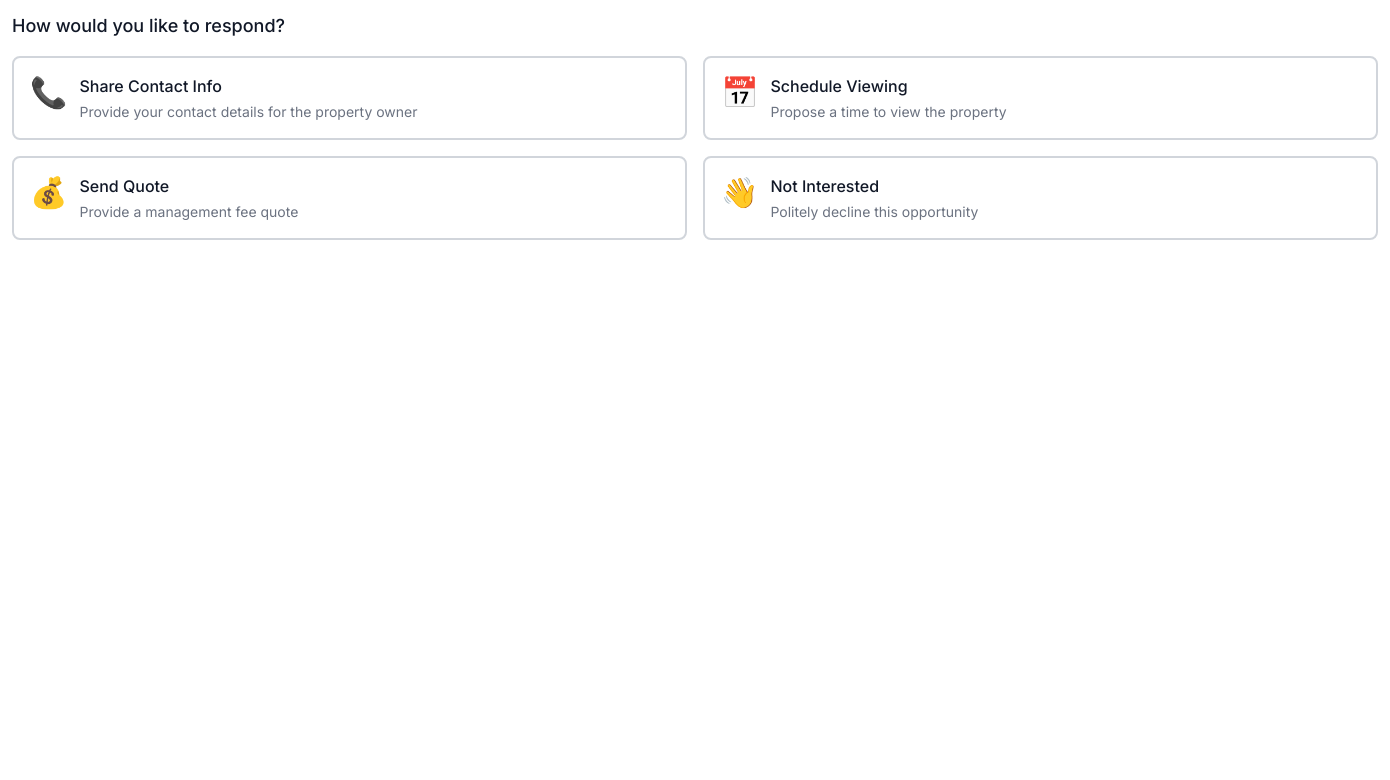
Test case: Lead Response System › ResponseForm › should show contact info form when selected
Click the button "Share Contact Info" at (49, 92), box x1=12 y1=56 x2=687 y2=140
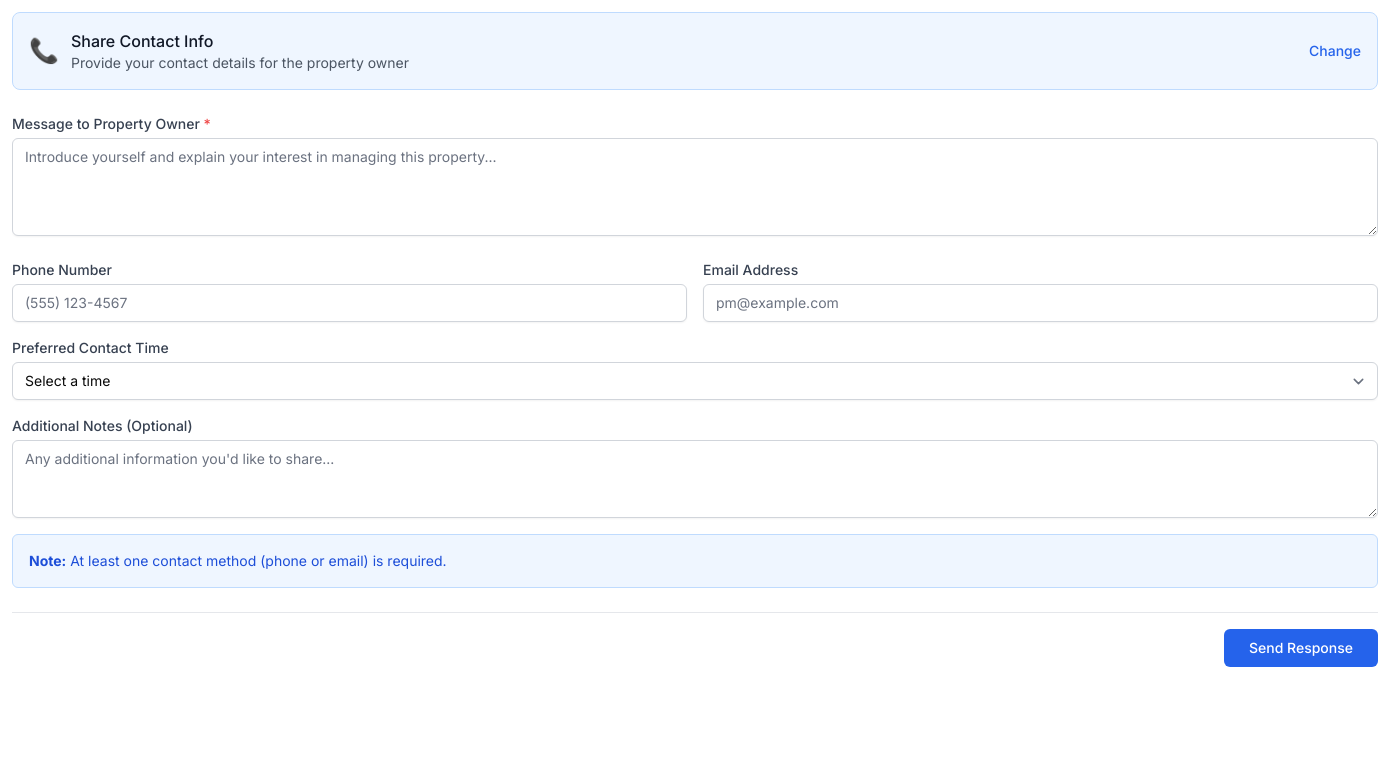
Expected: the field labelled "Phone Number" is shown, x1=12 y1=284 x2=687 y2=322
Expected: the field labelled "Email Address" is shown, x1=703 y1=284 x2=1378 y2=322
